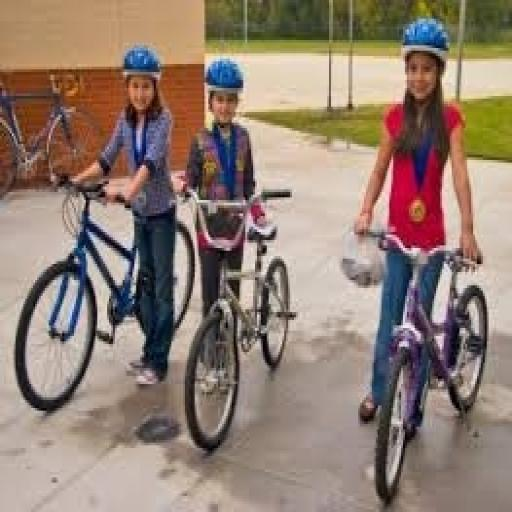cycling: (352, 16, 485, 437), (51, 43, 181, 389), (177, 53, 277, 395)
